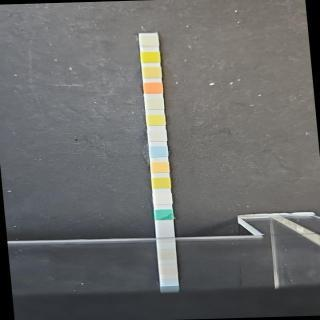mark: (142, 66, 162, 80), (152, 192, 172, 205), (139, 36, 159, 48), (140, 51, 160, 63), (143, 82, 163, 94), (144, 98, 164, 110), (154, 208, 173, 220), (147, 114, 165, 126), (151, 161, 169, 173), (152, 177, 170, 189), (148, 131, 167, 142), (149, 147, 169, 157)
